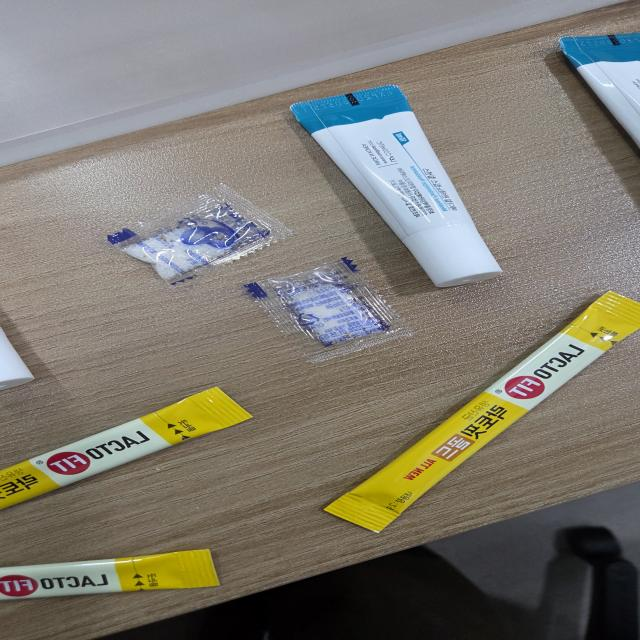lacto: (322, 288, 638, 538), (0, 380, 256, 511), (0, 541, 222, 613)
lib: (289, 75, 509, 291), (558, 30, 640, 161), (0, 310, 37, 390)
salt: (103, 180, 292, 293), (246, 255, 412, 366)
